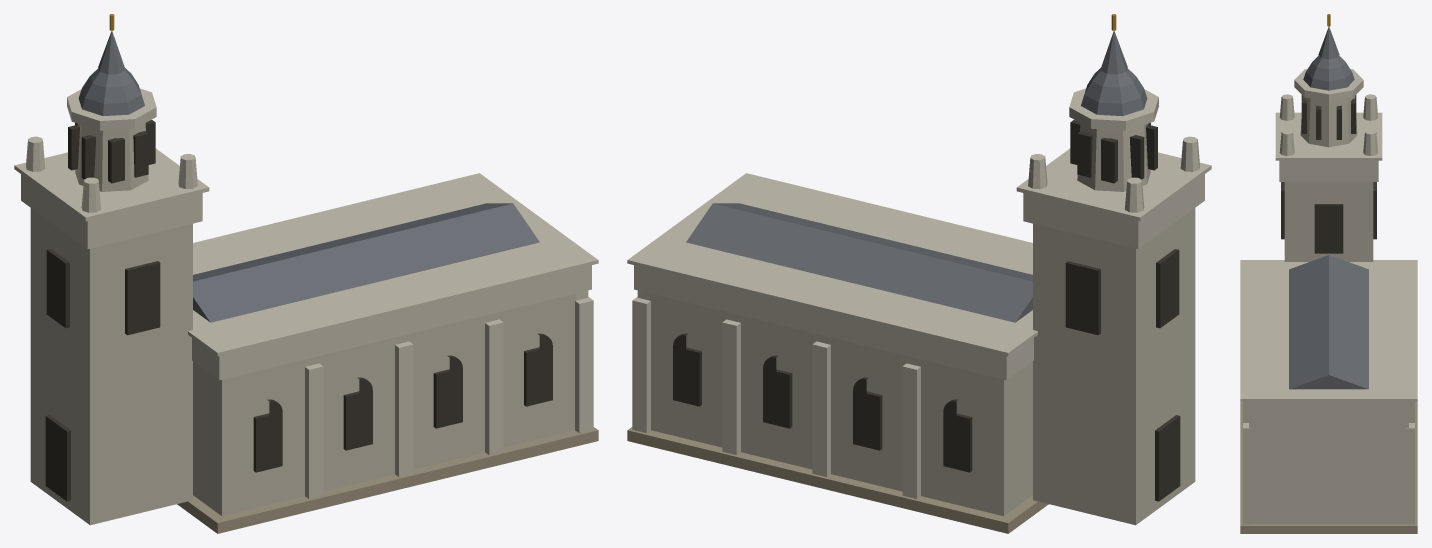
The model's file is wren_church_generic.glb.
3 views of the same model, side by side, from view 1: azimuth 30°, elevation 25°; view 2: azimuth 150°, elevation 25°; view 3: azimuth 270°, elevation 25° (orthographic). The views are drawn at different scales.
Visible parts, largest first — view 1: wren_church_generic; view 2: wren_church_generic; view 3: wren_church_generic.
Part boxes in pixels (left/top/right/bottom): wren_church_generic: left=14, top=14, right=598, bottom=533; wren_church_generic: left=627, top=14, right=1211, bottom=533; wren_church_generic: left=1240, top=14, right=1417, bottom=533.
Bounding box in the file's own units: 47.5 × 45.2 × 20.
